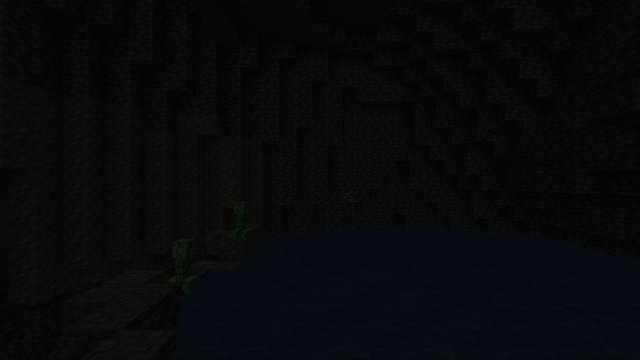creepers: (169, 236, 196, 293), (232, 200, 249, 240)
